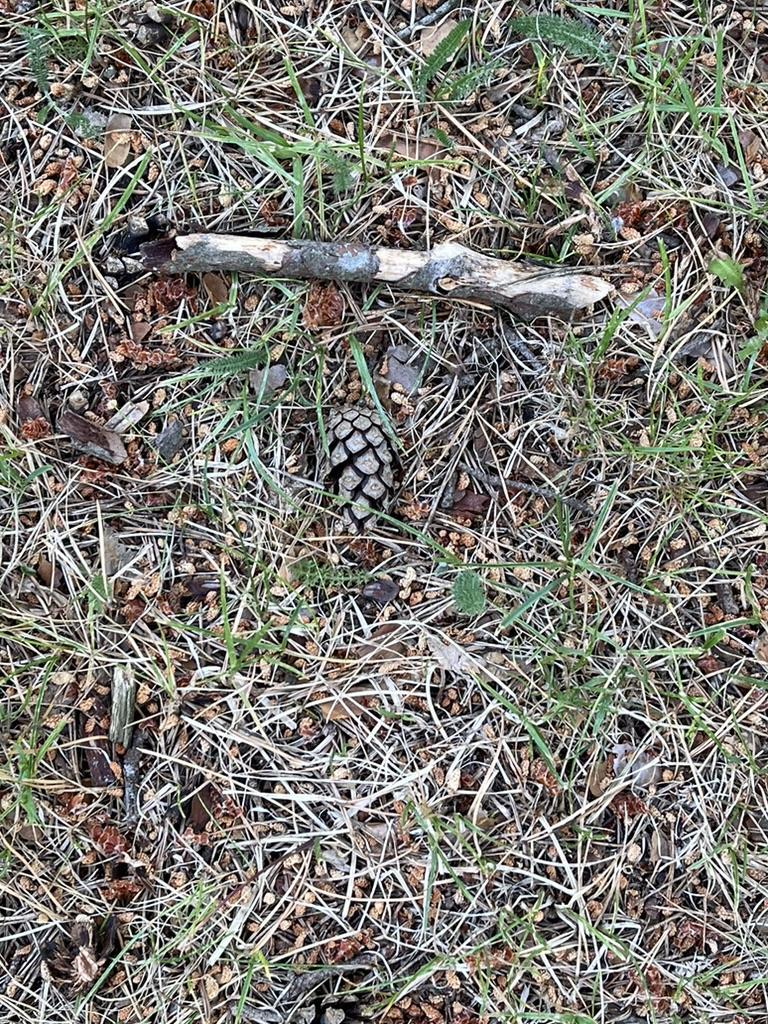pine: (301, 390, 413, 540), (278, 960, 393, 1024)
